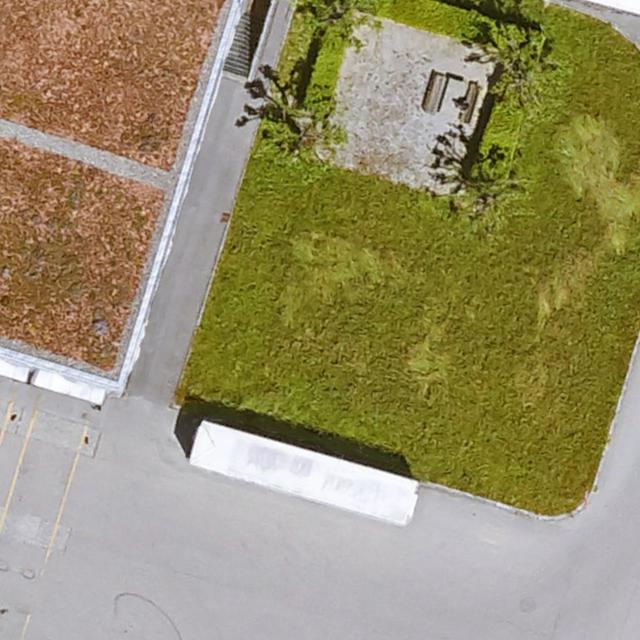tree: (481, 29, 560, 112), (453, 149, 527, 231), (259, 96, 343, 163), (302, 0, 380, 42)
